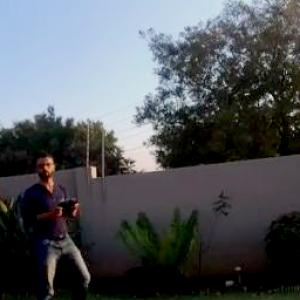follow: (19, 139, 105, 299)
